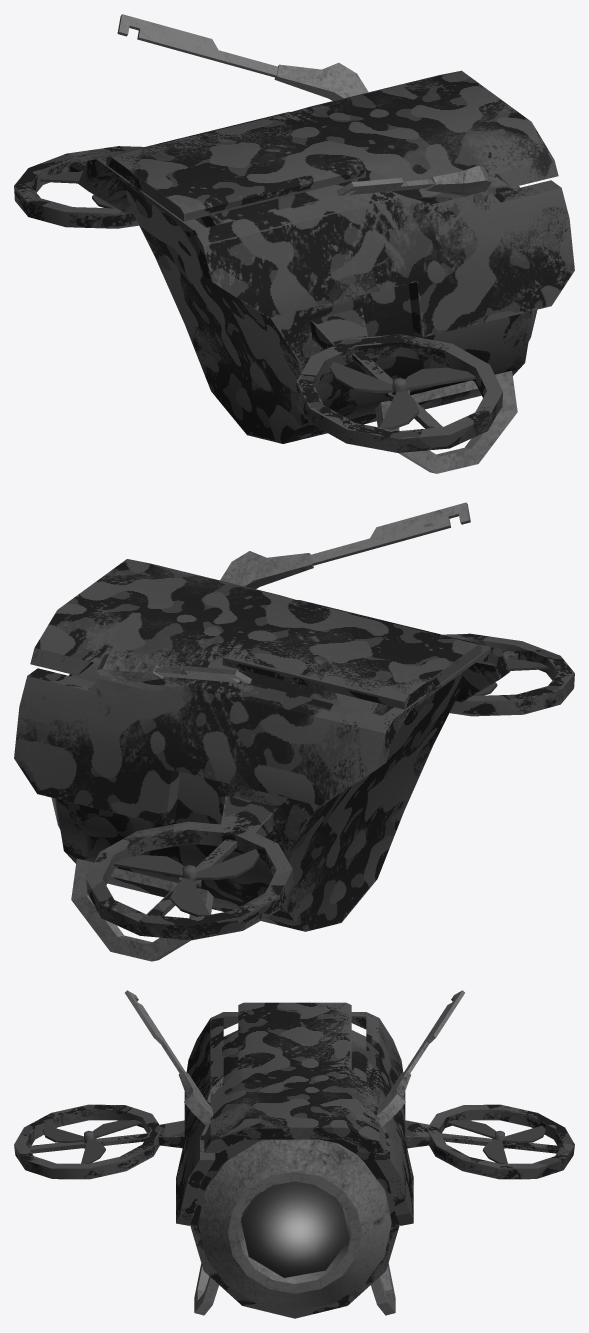
Rendered from dron1.fbx.
3 renders of one model, top to bottom at view 1: azimuth 30°, elevation 25°; view 2: azimuth 150°, elevation 25°; view 3: azimuth 270°, elevation 25°, orthographic. The views are drawn at different scales.
Visible parts, largest first — view 1: Cube.008, Plane.001; view 2: Cube.008, Plane.002; view 3: Cube.008, Plane.002, Plane.001.
Part boxes in pixels (<box>): Cube.008: <box>14,14,574,473</box>; Plane.001: <box>330,361,475,429</box>; Cube.008: <box>14,502,574,961</box>; Plane.002: <box>114,849,259,916</box>; Cube.008: <box>14,990,574,1318</box>; Plane.002: <box>447,1120,545,1163</box>; Plane.001: <box>43,1120,141,1163</box>.
Bounding box in the file's own units: 0.3389 × 0.3307 × 0.6374.
